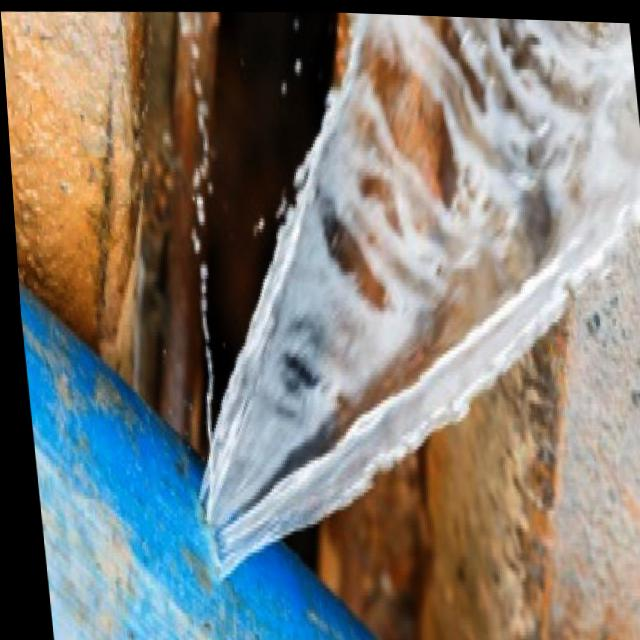leak: (137, 12, 640, 587)
